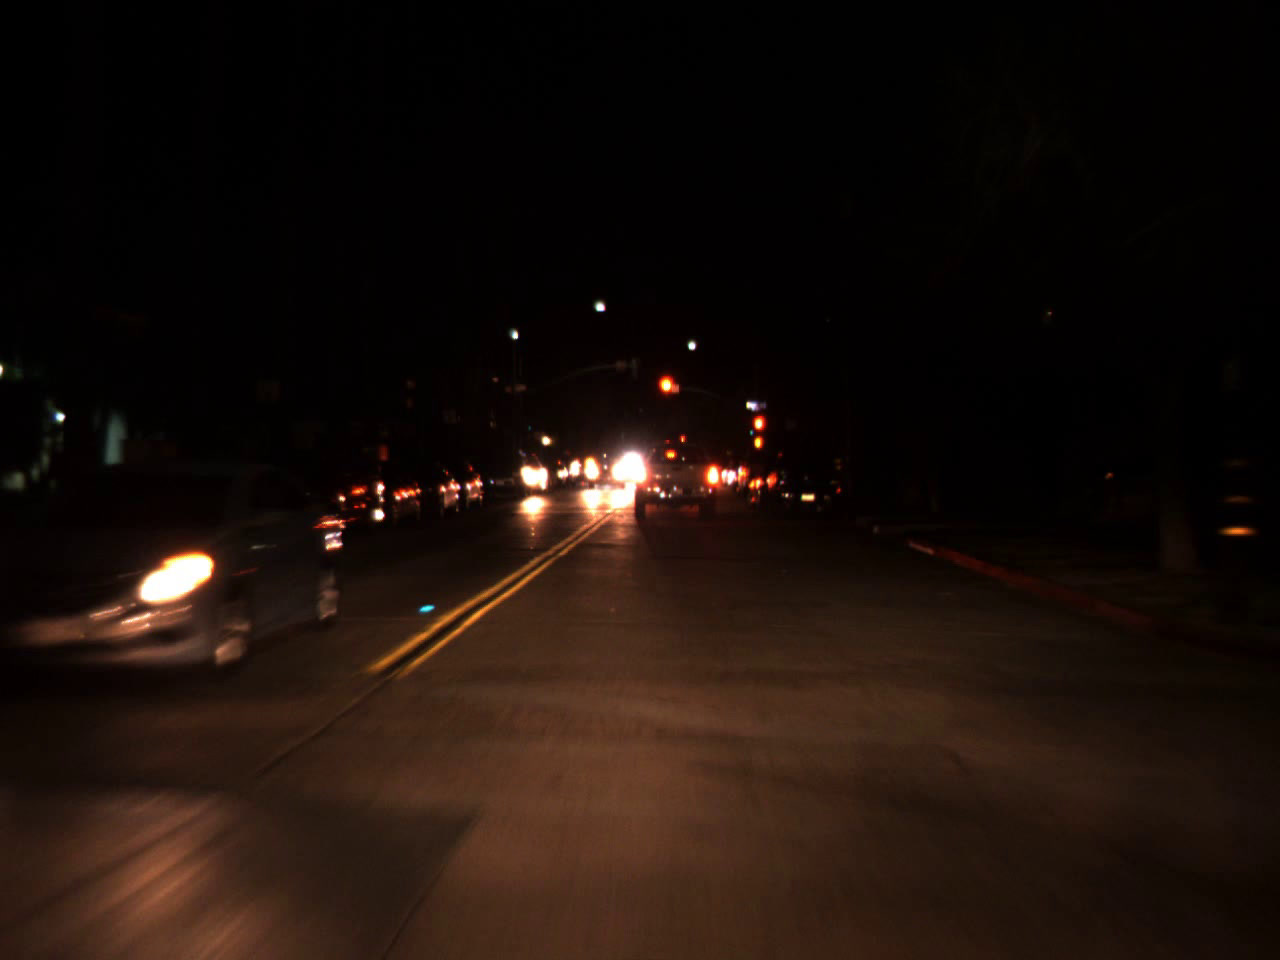stop: (655, 373, 682, 413), (751, 414, 769, 451)
